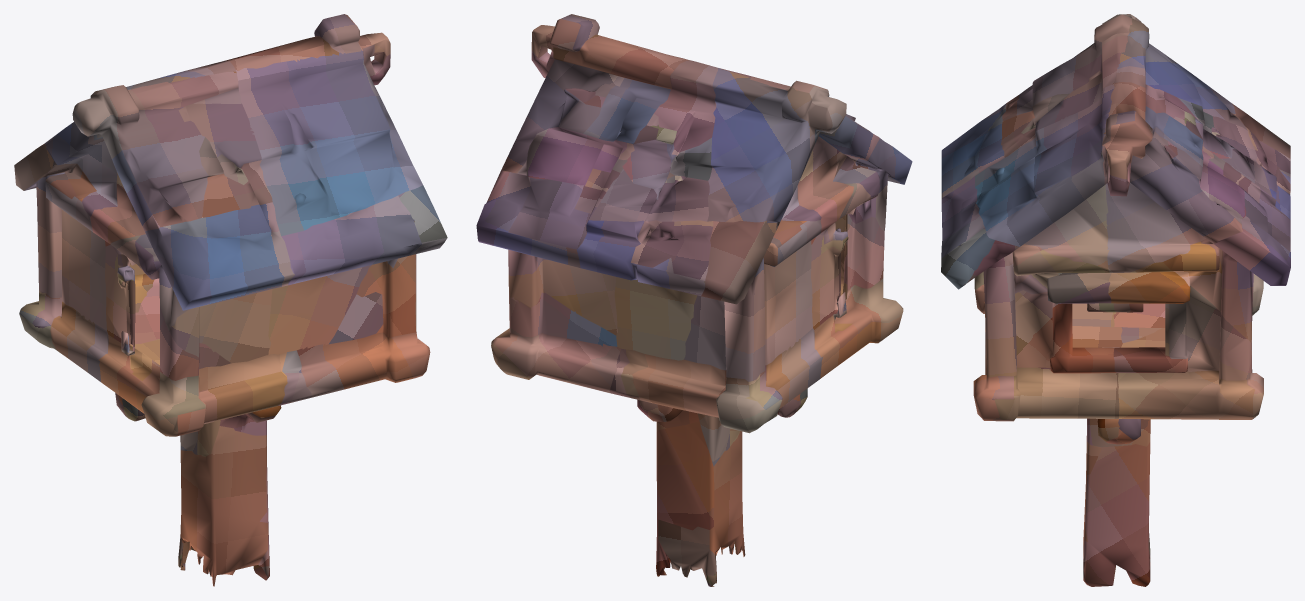
The model's file is mailbox_pillar.glb.
3 renders of one model, left to right at view 1: azimuth 30°, elevation 25°; view 2: azimuth 150°, elevation 25°; view 3: azimuth 270°, elevation 25°, orthographic. The views are drawn at different scales.
Visible parts, largest first — view 1: tripo_node_4a28e665-20b0-401e-84f5-7530cd8d2805; view 2: tripo_node_4a28e665-20b0-401e-84f5-7530cd8d2805; view 3: tripo_node_4a28e665-20b0-401e-84f5-7530cd8d2805.
Boxes of the visible parts, x1,y1,x2,y2 form: tripo_node_4a28e665-20b0-401e-84f5-7530cd8d2805: (14, 14, 447, 586); tripo_node_4a28e665-20b0-401e-84f5-7530cd8d2805: (476, 14, 912, 586); tripo_node_4a28e665-20b0-401e-84f5-7530cd8d2805: (941, 14, 1290, 586).
Size of the model in its own units: 0.6085 by 0.9991 by 0.6151.
Materials: 1 (1 with a texture image).
